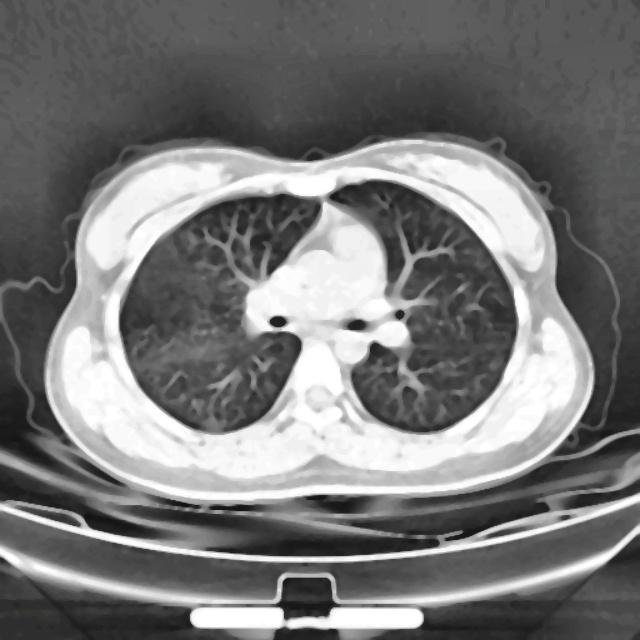covid: (42, 130, 601, 505)
